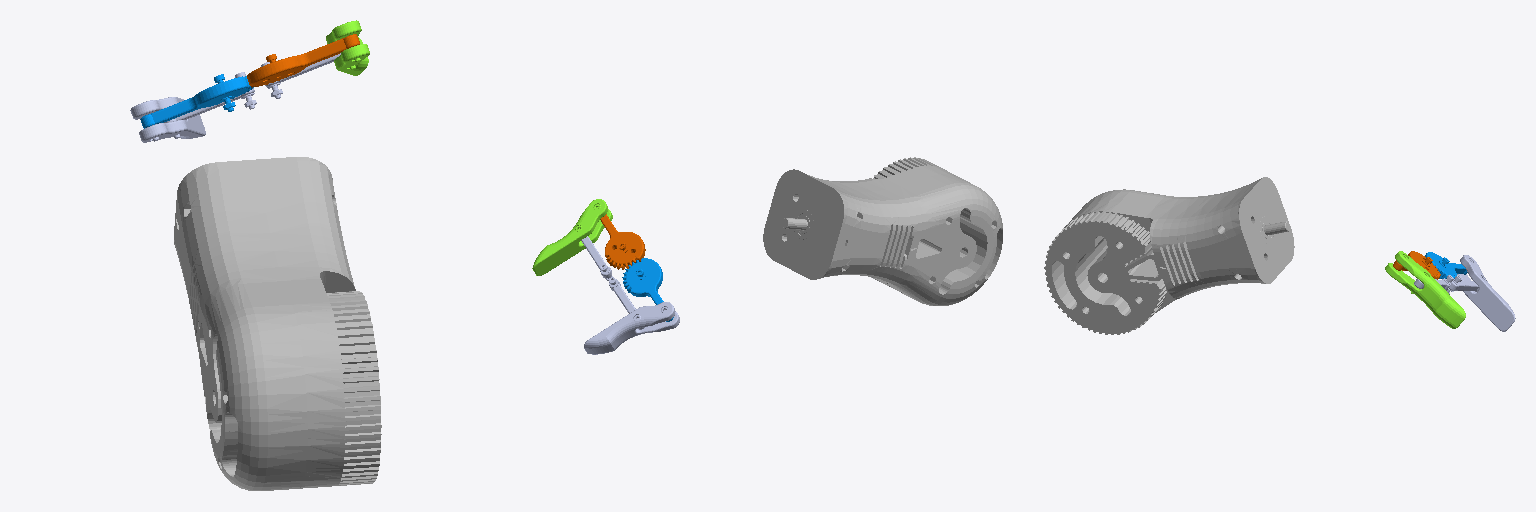
The robot description file, URDF, robot "moveo_urdf_5":
<robot
  name="moveo_urdf_5">
    <link
    name="base_link">
    <inertial>
      <origin
        xyz="0.034155 -0.20591 -0.049641"
        rpy="0 0 0" />
      <mass
        value="8.0643" />
      <inertia
        ixx="0.11291"
        ixy="0.00066071"
        ixz="-0.00030472"
        iyy="0.089946"
        iyz="0.011461"
        izz="0.19187" />
    </inertial>
    <visual>
      <origin
        xyz="0 0 0"
        rpy="0 0 0" />
      <geometry>
        <mesh
          filename="package://moveo_urdf_4/meshes/base_link.STL" />
      </geometry>
      <material
        name="">
        <color
          rgba="0.75294 0.75294 0.75294 1" />
      </material>
    </visual>
    <collision>
      <origin
        xyz="0 0 0"
        rpy="0 0 0" />
      <geometry>
        <mesh
          filename="package://moveo_urdf_4/meshes/base_link.STL" />
      </geometry>
    </collision>
  </link>
  <link
    name="Link_1">
    <inertial>
      <origin
        xyz="4.0186E-05 0.090634 0.00010221"
        rpy="0 0 0" />
      <mass
        value="4.2526" />
      <inertia
        ixx="0.0034071"
        ixy="8.9041E-06"
        ixz="1.179E-07"
        iyy="0.018642"
        iyz="-3.6544E-06"
        izz="0.021987" />
    </inertial>
    <visual>
      <origin
        xyz="0 0 0"
        rpy="0 0 0" />
      <geometry>
        <mesh
          filename="package://moveo_urdf_4/meshes/Link_1.STL" />
      </geometry>
      <material
        name="">
        <color
          rgba="0.75294 0.75294 0.75294 1" />
      </material>
    </visual>
    <collision>
      <origin
        xyz="0 0 0"
        rpy="0 0 0" />
      <geometry>
        <mesh
          filename="package://moveo_urdf_4/meshes/Link_1.STL" />
      </geometry>
    </collision>
  </link>
  <joint
    name="Joint_1"
    type="revolute">
    <origin
      xyz="0 -0.2425 0"
      rpy="1.5708 9.5417E-17 2.7766" />
    <parent
      link="base_link" />
    <child
      link="Link_1" />
    <axis
      xyz="0 1 0" />
    <limit
      lower="-1"
      upper="1"
      effort="5"
      velocity="1" />
  </joint>
  <link
    name="Link_2">
    <inertial>
      <origin
        xyz="2.2815E-05 0.0017616 -0.080002"
        rpy="0 0 0" />
      <mass
        value="1.9323" />
      <inertia
        ixx="0.012138"
        ixy="-3.5576E-06"
        ixz="-9.0632E-06"
        iyy="0.011445"
        iyz="0.00014273"
        izz="0.00070271" />
    </inertial>
    <visual>
      <origin
        xyz="0 0 0"
        rpy="0 0 0" />
      <geometry>
        <mesh
          filename="package://moveo_urdf_5/meshes/Link_2.STL" />
      </geometry>
      <material
        name="">
        <color
          rgba="0.75294 0.75294 0.75294 1" />
      </material>
    </visual>
    <collision>
      <origin
        xyz="0 0 0"
        rpy="0 0 0" />
      <geometry>
        <mesh
          filename="package://moveo_urdf_5/meshes/Link_2.STL" />
      </geometry>
    </collision>
  </link>
  <joint
    name="Joint_2"
    type="revolute">
    <origin
      xyz="0 0.18264 0"
      rpy="-3.1416 0.95134 1.5708" />
    <parent
      link="Link_1" />
    <child
      link="Link_2" />
    <axis
      xyz="0 -1 0" />
    <limit
      lower="-1"
      upper="1"
      effort="5"
      velocity="1" />
  </joint>
  <link
    name="Link_3">
    <inertial>
      <origin
        xyz="0.05095 -0.00039084 -0.00045591"
        rpy="0 0 0" />
      <mass
        value="1.1381" />
      <inertia
        ixx="0.00023572"
        ixy="-3.8425E-06"
        ixz="4.1286E-06"
        iyy="0.00029123"
        iyz="-1.0387E-07"
        izz="0.00052457" />
    </inertial>
    <visual>
      <origin
        xyz="0 0 0"
        rpy="0 0 0" />
      <geometry>
        <mesh
          filename="package://moveo_urdf_5/meshes/Link_3.STL" />
      </geometry>
      <material
        name="">
        <color
          rgba="0.75294 0.75294 0.75294 1" />
      </material>
    </visual>
    <collision>
      <origin
        xyz="0 0 0"
        rpy="0 0 0" />
      <geometry>
        <mesh
          filename="package://moveo_urdf_5/meshes/Link_3.STL" />
      </geometry>
    </collision>
  </link>
  <joint
    name="Joint_3"
    type="revolute">
    <origin
      xyz="0 0 -0.22112"
      rpy="-3.1416 0.98126 -3.1416" />
    <parent
      link="Link_2" />
    <child
      link="Link_3" />
    <axis
      xyz="0 -1 0" />
    <limit
      lower="-1"
      upper="1"
      effort="5"
      velocity="1" />
  </joint>
  <link
    name="Link_4">
    <inertial>
      <origin
        xyz="-0.0027417 0.0025097 0.012864"
        rpy="0 0 0" />
      <mass
        value="0.62964" />
      <inertia
        ixx="0.0001717"
        ixy="1.3446E-06"
        ixz="8.5164E-06"
        iyy="0.00010506"
        iyz="5.1412E-05"
        izz="7.8944E-05" />
    </inertial>
    <visual>
      <origin
        xyz="0 0 0"
        rpy="0 0 0" />
      <geometry>
        <mesh
          filename="package://moveo_urdf_5/meshes/Link_4.STL" />
      </geometry>
      <material
        name="">
        <color
          rgba="0.29412 0.29412 0.29412 1" />
      </material>
    </visual>
    <collision>
      <origin
        xyz="0 0 0"
        rpy="0 0 0" />
      <geometry>
        <mesh
          filename="package://moveo_urdf_5/meshes/Link_4.STL" />
      </geometry>
    </collision>
  </link>
  <joint
    name="Joint_4"
    type="revolute">
    <origin
      xyz="0.16988 -0.00099213 0"
      rpy="3.1416 -1.2279 1.5708" />
    <parent
      link="Link_3" />
    <child
      link="Link_4" />
    <axis
      xyz="0.010353 -0.99993 -0.0059382" />
    <limit
      lower="-1"
      upper="1"
      effort="5"
      velocity="1" />
  </joint>
  <link
    name="Link_5">
    <inertial>
      <origin
        xyz="-0.011366 0.00012239 0.0078967"
        rpy="0 0 0" />
      <mass
        value="0.19875" />
      <inertia
        ixx="6.2676E-05"
        ixy="4.2551E-06"
        ixz="4.0215E-05"
        iyy="9.7792E-05"
        iyz="8.5888E-07"
        izz="9.5807E-05" />
    </inertial>
    <visual>
      <origin
        xyz="0 0 0"
        rpy="0 0 0" />
      <geometry>
        <mesh
          filename="package://moveo_urdf_5/meshes/Link_5.STL" />
      </geometry>
      <material
        name="">
        <color
          rgba="0.79216 0.81961 0.93333 1" />
      </material>
    </visual>
    <collision>
      <origin
        xyz="0 0 0"
        rpy="0 0 0" />
      <geometry>
        <mesh
          filename="package://moveo_urdf_5/meshes/Link_5.STL" />
      </geometry>
    </collision>
  </link>
  <joint
    name="Joint_5"
    type="revolute">
    <origin
      xyz="-0.0021346 0.053041 0.0016936"
      rpy="-1.5639 -0.091135 -0.00062919" />
    <parent
      link="Link_4" />
    <child
      link="Link_5" />
    <axis
      xyz="0 1 0" />
    <limit
      lower="-1"
      upper="1"
      effort="5"
      velocity="1" />
  </joint>
  <link
    name="Gripper_Servo_Gear">
    <inertial>
      <origin
        xyz="-0.0063957 -0.0033021 -0.00082714"
        rpy="0 0 0" />
      <mass
        value="0.0048997" />
      <inertia
        ixx="2.0097E-09"
        ixy="-3.0673E-09"
        ixz="-6.3297E-10"
        iyy="4.9761E-09"
        iyz="-3.9668E-10"
        izz="6.8221E-09" />
    </inertial>
    <visual>
      <origin
        xyz="0 0 0"
        rpy="0 0 0" />
      <geometry>
        <mesh
          filename="package://moveo_urdf_5/meshes/Gripper_Servo_Gear.STL" />
      </geometry>
      <material
        name="">
        <color
          rgba="0.9098 0.44314 0.031373 1" />
      </material>
    </visual>
    <collision>
      <origin
        xyz="0 0 0"
        rpy="0 0 0" />
      <geometry>
        <mesh
          filename="package://moveo_urdf_5/meshes/Gripper_Servo_Gear.STL" />
      </geometry>
    </collision>
  </link>
  <joint
    name="Gripper_Servo_Gear_Joint"
    type="revolute">
    <origin
      xyz="-0.05013 0.01413 0.041516"
      rpy="0.9321 0.032705 -1.5268" />
    <parent
      link="Link_5" />
    <child
      link="Gripper_Servo_Gear" />
    <axis
      xyz="0 1 0" />
    <limit
      lower="0"
      upper="1.5707"
      effort="5"
      velocity="1" />
  </joint>
  <link
    name="Tip_Gripper_Servo">
    <inertial>
      <origin
        xyz="0.028047 -0.000564 0.0049632"
        rpy="0 0 0" />
      <mass
        value="0.010676" />
      <inertia
        ixx="8.9609E-09"
        ixy="6.3808E-09"
        ixz="-2.6788E-08"
        iyy="1.7457E-07"
        iyz="7.7239E-10"
        izz="1.7361E-07" />
    </inertial>
    <visual>
      <origin
        xyz="0 0 0"
        rpy="0 0 0" />
      <geometry>
        <mesh
          filename="package://moveo_urdf_5/meshes/Tip_Gripper_Servo.STL" />
      </geometry>
      <material
        name="">
        <color
          rgba="0.6 1 0.27843 1" />
      </material>
    </visual>
    <collision>
      <origin
        xyz="0 0 0"
        rpy="0 0 0" />
      <geometry>
        <mesh
          filename="package://moveo_urdf_5/meshes/Tip_Gripper_Servo.STL" />
      </geometry>
    </collision>
  </link>
  <joint
    name="Tip_Gripper_Servo_Joint"
    type="revolute">
    <origin
      xyz="-0.039906 -0.004 -0.0027473"
      rpy="-3.1416 -1.5569 -2.0392E-12" />
    <parent
      link="Gripper_Servo_Gear" />
    <child
      link="Tip_Gripper_Servo" />
    <axis
      xyz="0 1 0" />
    <limit
      lower="0"
      upper="1.3"
      effort="5"
      velocity="1" />
    <mimic joint="Gripper_Servo_Gear_Joint" multiplier="1" offset="0"/> 
  </joint>
  <link
    name="Gripper_Idol_Gear">
    <inertial>
      <origin
        xyz="-0.0061853 0.00086502 -3.5867E-05"
        rpy="0 0 0" />
      <mass
        value="0.0051273" />
      <inertia
        ixx="2.3312E-09"
        ixy="1.1098E-09"
        ixz="-5.1524E-11"
        iyy="8.8855E-09"
        iyz="6.4357E-12"
        izz="1.1216E-08" />
    </inertial>
    <visual>
      <origin
        xyz="0 0 0"
        rpy="0 0 0" />
      <geometry>
        <mesh
          filename="package://moveo_urdf_5/meshes/Gripper_Idol_Gear.STL" />
      </geometry>
      <material
        name="">
        <color
          rgba="0.058824 0.64706 1 1" />
      </material>
    </visual>
    <collision>
      <origin
        xyz="0 0 0"
        rpy="0 0 0" />
      <geometry>
        <mesh
          filename="package://moveo_urdf_5/meshes/Gripper_Idol_Gear.STL" />
      </geometry>
    </collision>
  </link>
  <joint
    name="Gripper_Idol_Gear_Joint"
    type="revolute">
    <origin
      xyz="-0.052696 -0.01387 0.038065"
      rpy="2.2091 -0.040996 1.626" />
    <parent
      link="Link_5" />
    <child
      link="Gripper_Idol_Gear" />
    <axis
      xyz="0 1 0" />
    <limit
      lower="-1.5707"
      upper="0"
      effort="5"
      velocity="1" />
  </joint>
  <link
    name="Tip_Gripper_Idol">
    <inertial>
      <origin
        xyz="0.0059646 0.00098916 0.027851"
        rpy="0 0 0" />
      <mass
        value="0.010676" />
      <inertia
        ixx="1.6895E-07"
        ixy="-1.6878E-09"
        ixz="-3.8254E-08"
        iyy="1.7457E-07"
        iyz="-6.203E-09"
        izz="1.3622E-08" />
    </inertial>
    <visual>
      <origin
        xyz="0 0 0"
        rpy="0 0 0" />
      <geometry>
        <mesh
          filename="package://moveo_urdf_5/meshes/Tip_Gripper_Idol.STL" />
      </geometry>
      <material
        name="">
        <color
          rgba="0.79216 0.81961 0.93333 1" />
      </material>
    </visual>
    <collision>
      <origin
        xyz="0 0 0"
        rpy="0 0 0" />
      <geometry>
        <mesh
          filename="package://moveo_urdf_5/meshes/Tip_Gripper_Idol.STL" />
      </geometry>
    </collision>
  </link>
  <joint
    name="Tip_Gripper_Idol_Joint"
    type="revolute">
    <origin
      xyz="-0.039906 -0.000125 -0.0027473"
      rpy="3.1416 0.5236 3.1416" />
    <parent
      link="Gripper_Idol_Gear" />
    <child
      link="Tip_Gripper_Idol" />
    <axis
      xyz="0 1 0" />
    <limit
      lower="-1.5"
      upper="0"
      effort="5"
      velocity="1" />
    <mimic joint="Gripper_Idol_Gear_Joint" multiplier="-1" offset="0"/>
  </joint>
  <link
    name="Pivot_Arm_Gripper_Servo">
    <inertial>
      <origin
        xyz="-0.017611 0.00080352 -1.2115E-11"
        rpy="0 0 0" />
      <mass
        value="0.0018597" />
      <inertia
        ixx="2.3199E-09"
        ixy="3.1597E-09"
        ixz="3.9677E-16"
        iyy="7.8256E-08"
        iyz="-2.0327E-16"
        izz="8.0576E-08" />
    </inertial>
    <visual>
      <origin
        xyz="0 0 0"
        rpy="0 0 0" />
      <geometry>
        <mesh
          filename="package://moveo_urdf_5/meshes/Pivot_Arm_Gripper_Servo.STL" />
      </geometry>
      <material
        name="">
        <color
          rgba="0.79216 0.81961 0.93333 1" />
      </material>
    </visual>
    <collision>
      <origin
        xyz="0 0 0"
        rpy="0 0 0" />
      <geometry>
        <mesh
          filename="package://moveo_urdf_5/meshes/Pivot_Arm_Gripper_Servo.STL" />
      </geometry>
    </collision>
  </link>
  <joint
    name="Pivot_Arm_Gripper_Servo_Joint"
    type="revolute">
    <origin
      xyz="-0.068745 0.00713 0.05"
      rpy="0.93142 -0.0083007 -1.582" />
    <parent
      link="Link_5" />
    <child
      link="Pivot_Arm_Gripper_Servo" />
    <axis
      xyz="0 1 0" />
    <limit
      lower="-1"
      upper="1"
      effort="5"
      velocity="1" />
    <mimic joint="Gripper_Servo_Gear_Joint" multiplier="1" offset="0"/> 
  </joint>
  <link
    name="Pivot_Arm_Gripper_Idol">
    <inertial>
      <origin
        xyz="0.017611 0.00067852 -1.3978E-11"
        rpy="0 0 0" />
      <mass
        value="0.0018597" />
      <inertia
        ixx="2.3199E-09"
        ixy="-3.1597E-09"
        ixz="-4.5779E-16"
        iyy="7.8256E-08"
        iyz="-2.26E-16"
        izz="8.0576E-08" />
    </inertial>
    <visual>
      <origin
        xyz="0 0 0"
        rpy="0 0 0" />
      <geometry>
        <mesh
          filename="package://moveo_urdf_5/meshes/Pivot_Arm_Gripper_Idol.STL" />
      </geometry>
      <material
        name="">
        <color
          rgba="0.79216 0.81961 0.93333 1" />
      </material>
    </visual>
    <collision>
      <origin
        xyz="0 0 0"
        rpy="0 0 0" />
      <geometry>
        <mesh
          filename="package://moveo_urdf_5/meshes/Pivot_Arm_Gripper_Idol.STL" />
      </geometry>
    </collision>
  </link>
  <joint
    name="Pivot_Arm_Gripper_Idol_Joint"
    type="revolute">
    <origin
      xyz="-0.06867 -0.00687 0.0501"
      rpy="0.93138 1.7645E-12 -1.5708" />
    <parent
      link="Link_5" />
    <child
      link="Pivot_Arm_Gripper_Idol" />
    <axis
      xyz="0 1 0" />
    <limit
      lower="-1"
      upper="1"
      effort="5"
      velocity="1" />
    <mimic joint="Gripper_Idol_Gear_Joint" multiplier="1" offset="0"/> 
  </joint>

  <gazebo>
    <plugin name="MimicJointPlugin" filename="libroboticsgroup_gazebo_mimic_joint_plugin.so">
      joint="Gripper_Idol_Gear_Joint"
      mimicJoint="Pivot_Arm_Gripper_Idol_Joint"
      multiplier="1"
      offset="0"
    </plugin>
    <plugin name="MimicJointPlugin" filename="libroboticsgroup_gazebo_mimic_joint_plugin.so">
      joint="Gripper_Servo_Gear_Joint"
      mimicJoint="Pivot_Arm_Gripper_Servo_Joint"
      multiplier="1"
      offset="0"
    </plugin>
    <plugin name="MimicJointPlugin" filename="libroboticsgroup_gazebo_mimic_joint_plugin.so">
      joint="Gripper_Servo_Gear_Joint"
      mimicJoint="Tip_Gripper_Servo_Joint
      multiplier="1"
      offset="0"
    </plugin>
    <plugin name="MimicJointPlugin" filename="libroboticsgroup_gazebo_mimic_joint_plugin.so">
      joint="Gripper_Idol_Gear_Joint"
      mimicJoint="Tip_Gripper_Idol_Joint
      multiplier="-1"
      offset="0"
    </plugin>
  </gazebo>
</robot>


  

--- What the picture shows (computed from the rendered views, not written in the file) ---
The picture shows the robot from 3 angles, left to right: view 1: azimuth 30°, elevation 25°; view 2: azimuth 150°, elevation 25°; view 3: azimuth 270°, elevation 25°; orthographic projection.
Robot: moveo_urdf_5 — 12 links, 11 joints (11 revolute); root link base_link; default pose: all joints at 0.
Links seen in each view (by area): view 1: Link_3, Gripper_Idol_Gear, Gripper_Servo_Gear, Tip_Gripper_Idol, Tip_Gripper_Servo; view 2: Link_3, Tip_Gripper_Idol, Tip_Gripper_Servo, Gripper_Servo_Gear, Gripper_Idol_Gear; view 3: Link_3, Tip_Gripper_Servo, Tip_Gripper_Idol.
Boxes of the visible links, x1,y1,x2,y2 form: Link_3: [174, 157, 381, 490]; Gripper_Idol_Gear: [140, 74, 253, 128]; Gripper_Servo_Gear: [247, 34, 359, 87]; Tip_Gripper_Idol: [130, 97, 205, 142]; Tip_Gripper_Servo: [326, 20, 369, 75]; Link_3: [763, 157, 1002, 305]; Tip_Gripper_Idol: [584, 302, 679, 354]; Tip_Gripper_Servo: [532, 199, 612, 275]; Gripper_Servo_Gear: [600, 214, 645, 269]; Gripper_Idol_Gear: [622, 258, 673, 321]; Link_3: [1044, 177, 1294, 334]; Tip_Gripper_Servo: [1385, 251, 1465, 328]; Tip_Gripper_Idol: [1457, 255, 1515, 331].
Bounding box of the posed robot: 0.233 × 0.359 × 0.126 m (x, y, z).
Meshes: 12 distinct files referenced, 7 mesh visuals loaded (7 binary STL); not drawn: 5 (reference not matched to a file when rendering).